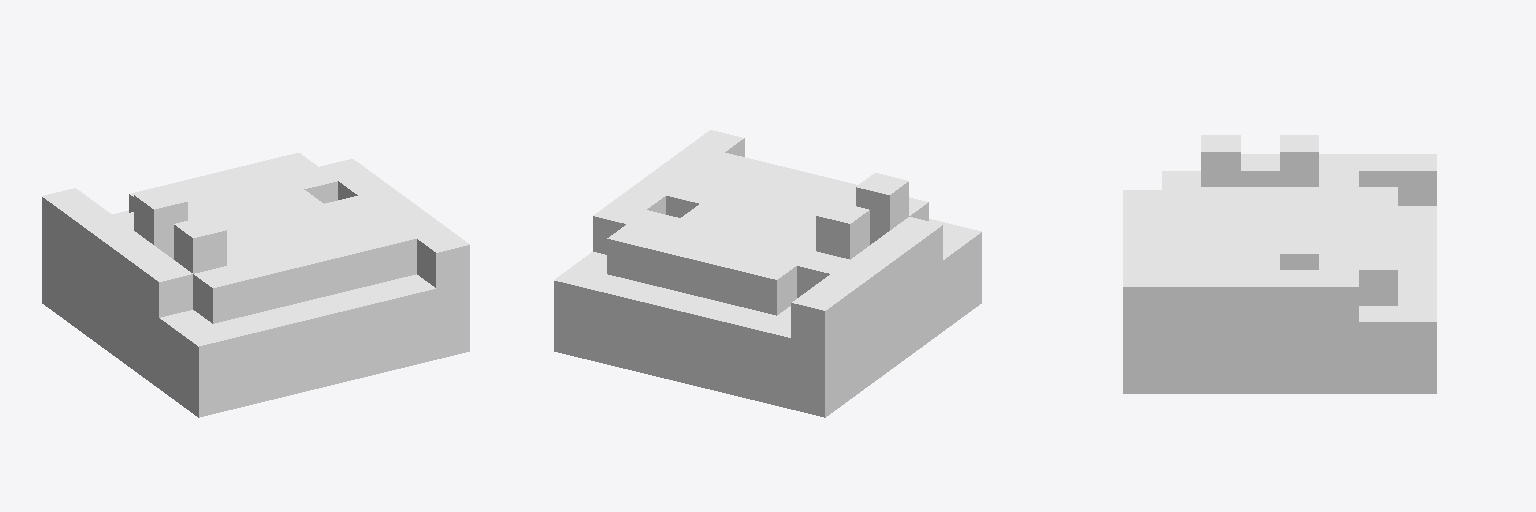
Rendered from Lava2.obj.
3 renders of one model, left to right at view 1: azimuth 30°, elevation 25°; view 2: azimuth 150°, elevation 25°; view 3: azimuth 270°, elevation 25°, orthographic.
Parts seen in each view (by area): view 1: object 1; view 2: object 1; view 3: object 1.
Part boxes in pixels (bbox=[...]): object 1: bbox=[42, 153, 469, 417]; object 1: bbox=[554, 130, 981, 417]; object 1: bbox=[1123, 135, 1436, 393].
Size of the model in its own units: 0.8 by 0.4 by 0.8.